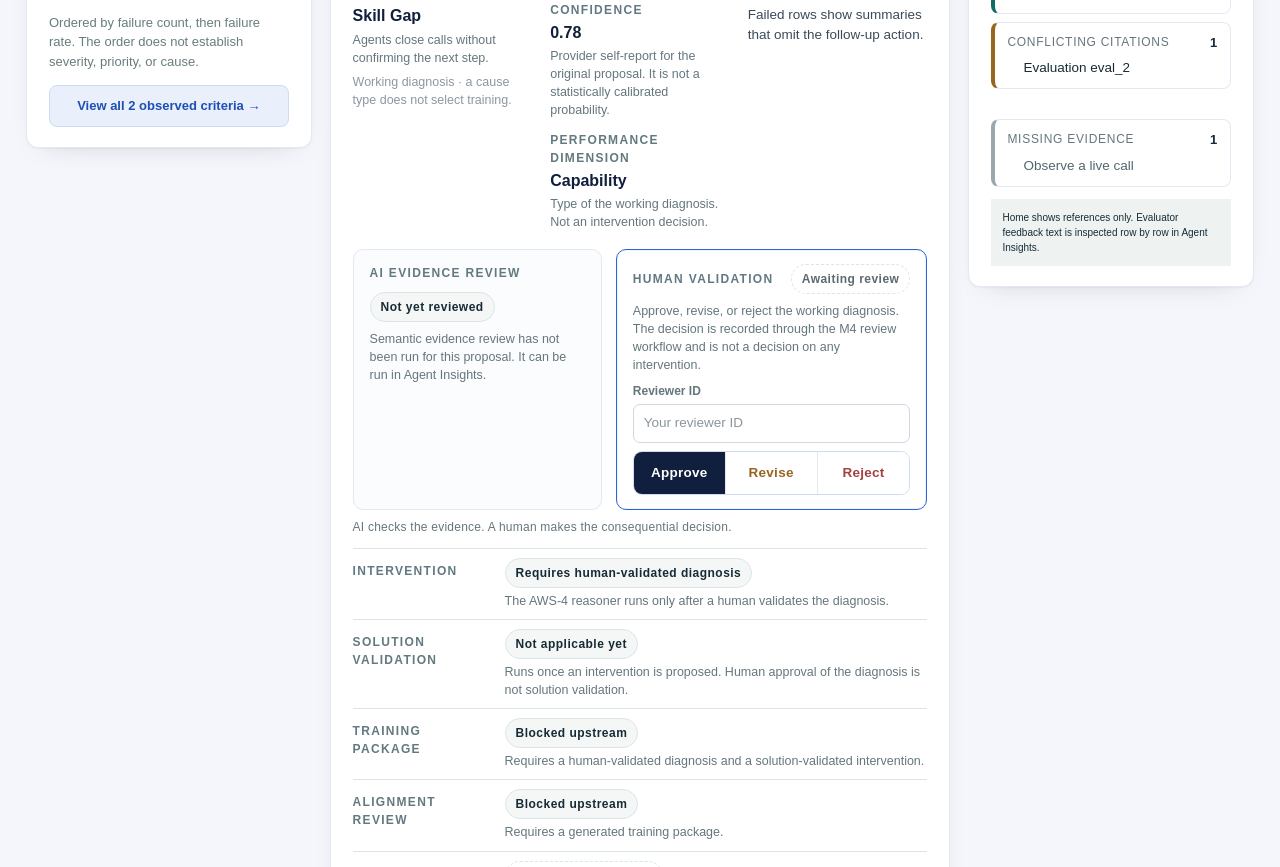
it: Home data states and M4 decisions against the backend › approves through the existing M4 endpoint and reloads Home from the backend (D)
(page scrolled)
Type "qa-lead" into the field with placeholder "Your reviewer ID" at (772, 424), box x1=633 y1=404 x2=910 y2=443
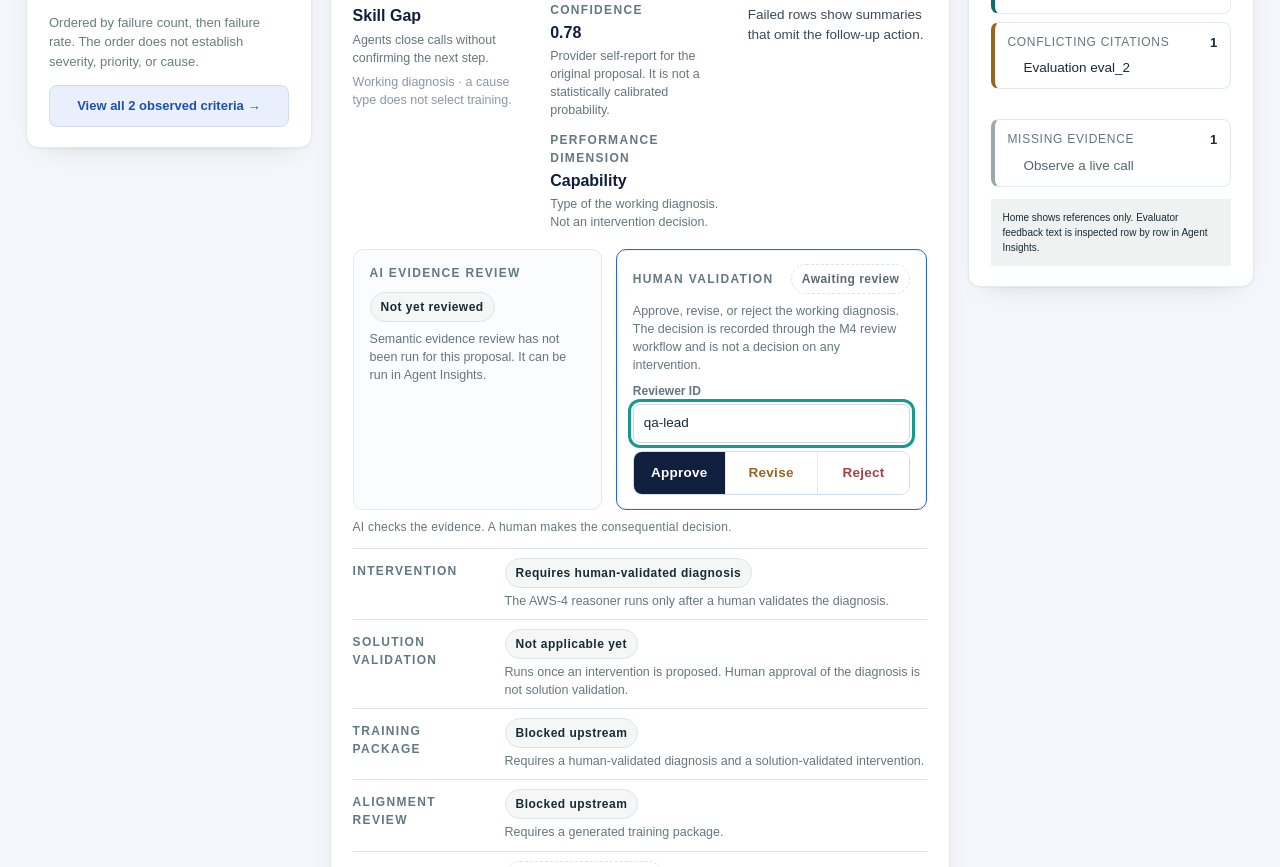
Click the button "Approve" at (680, 473), box x1=634 y1=452 x2=726 y2=494
(page scrolled)
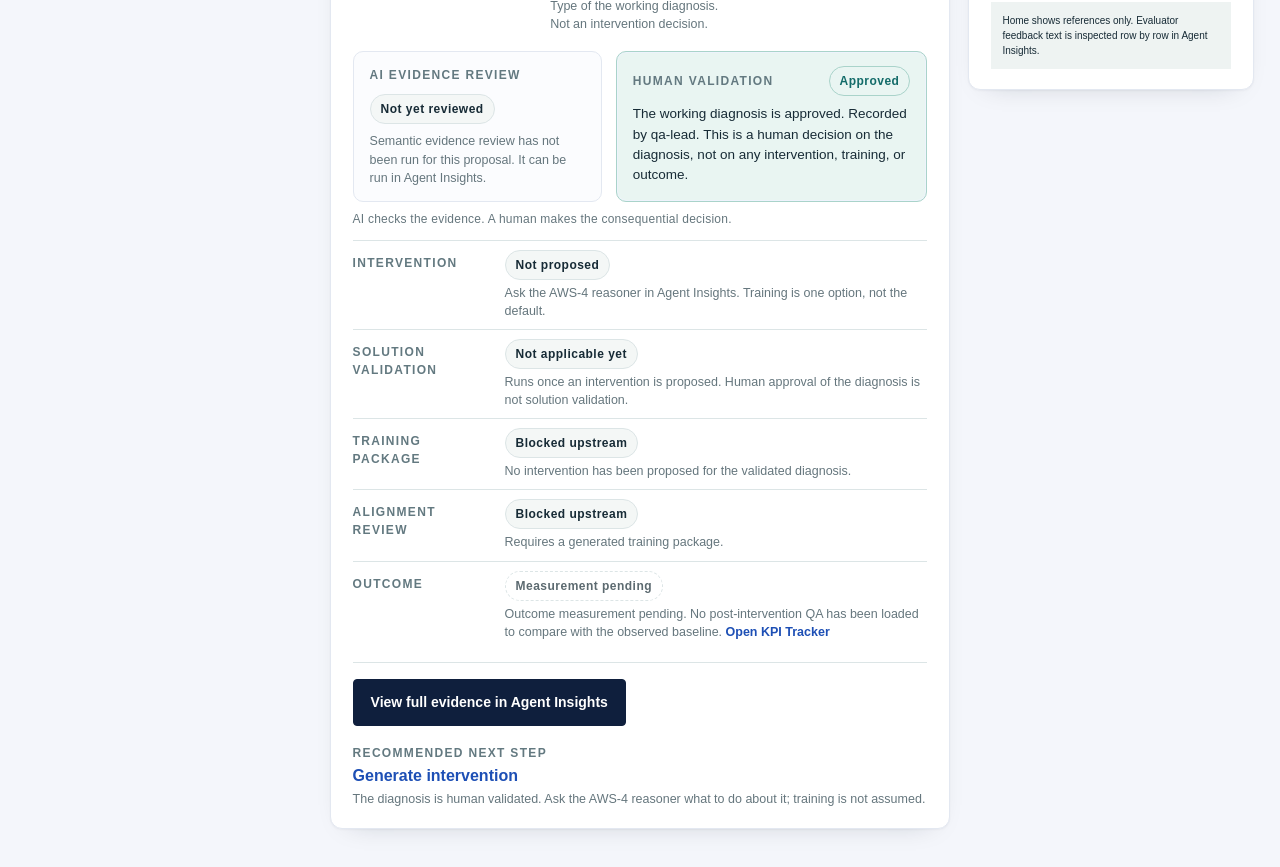
Check: the 1st text "Blocked upstream" is shown, box x1=505 y1=428 x2=638 y2=458
Check: the button "Human validation decision" is gone
Check: the text "Not proposed" is shown, box x1=505 y1=250 x2=610 y2=280
